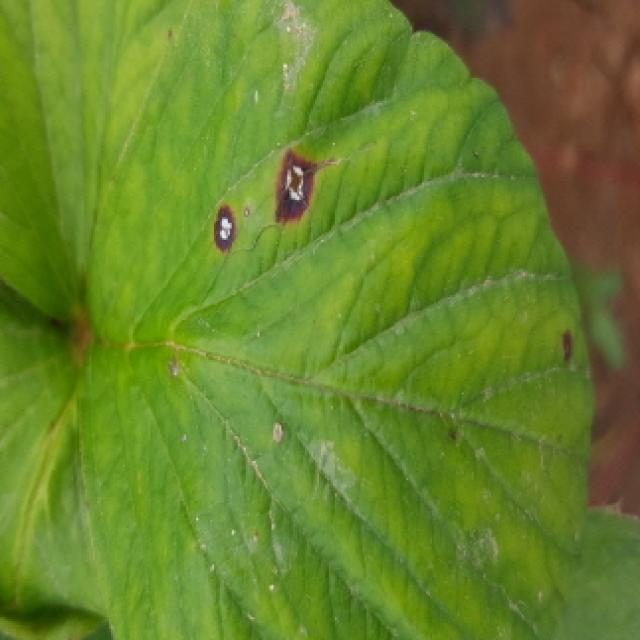Leaf Spot: (74, 0, 595, 640), (556, 499, 640, 640)
